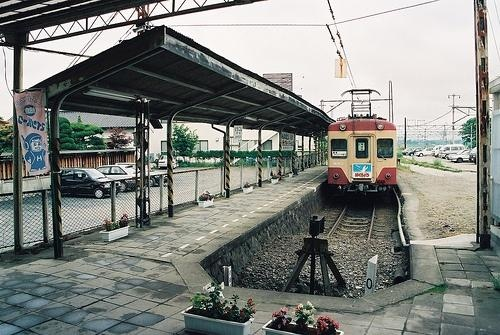car: (61, 168, 125, 202), (95, 165, 140, 194)
pottedplant: (181, 279, 261, 335), (259, 299, 350, 335)
train: (323, 87, 406, 214)
